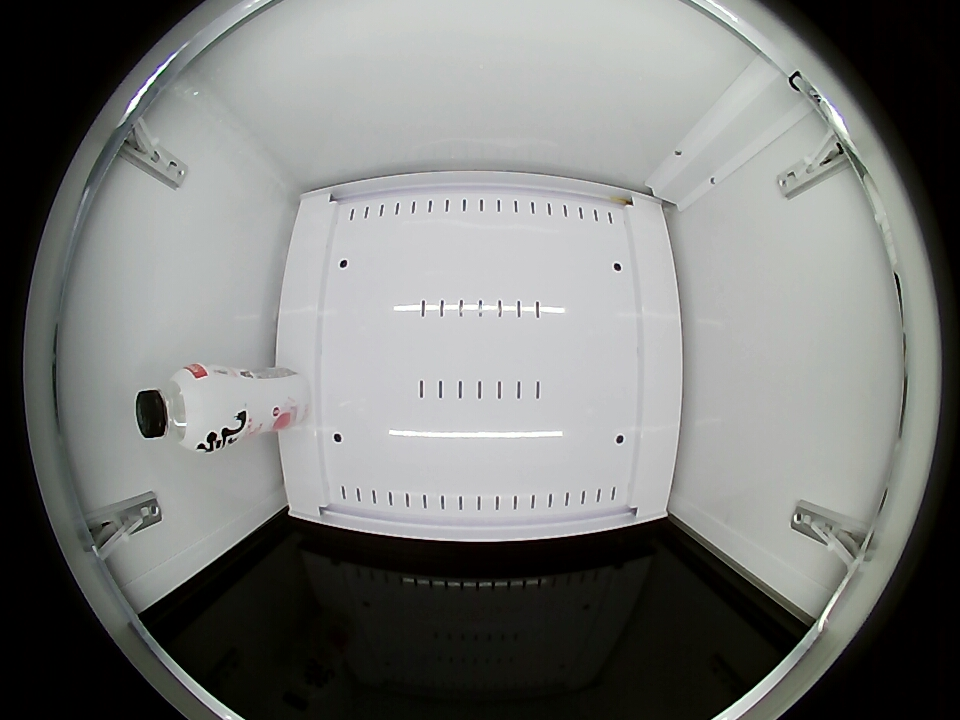yuanqishui: (135, 362, 227, 452)
